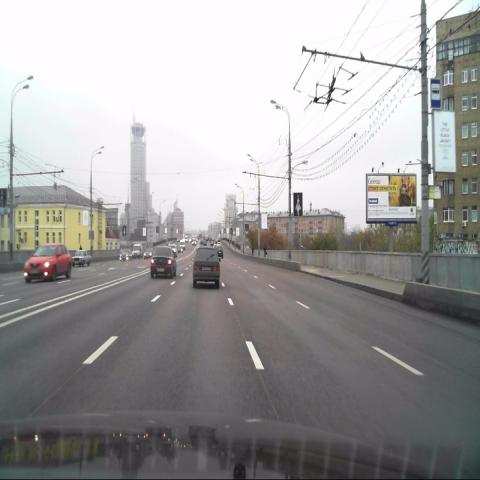5_16: (430, 77, 442, 110)
